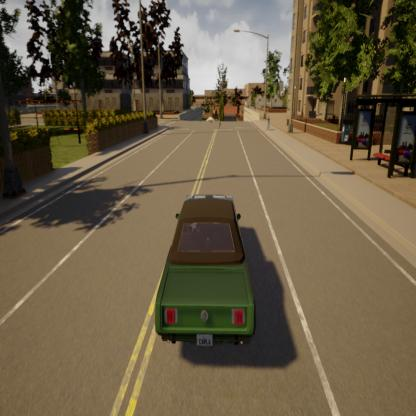Cars: (151, 182, 260, 363)
Pedestrian: (266, 110, 274, 134), (217, 111, 223, 129)
